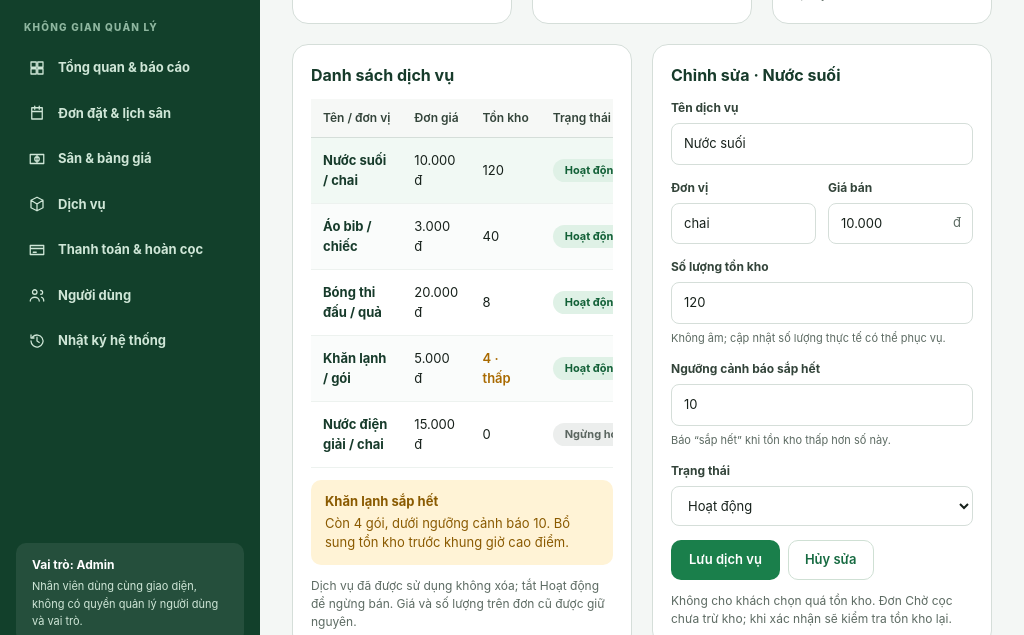
Test case: Admin Dịch vụ - sửa và thêm › không đổi gì mà bấm Lưu → báo lỗi, KHÔNG gọi server
(page scrolled)
Click the button "Lưu dịch vụ" at (725, 560), box [671,540,780,580]
(page scrolled)
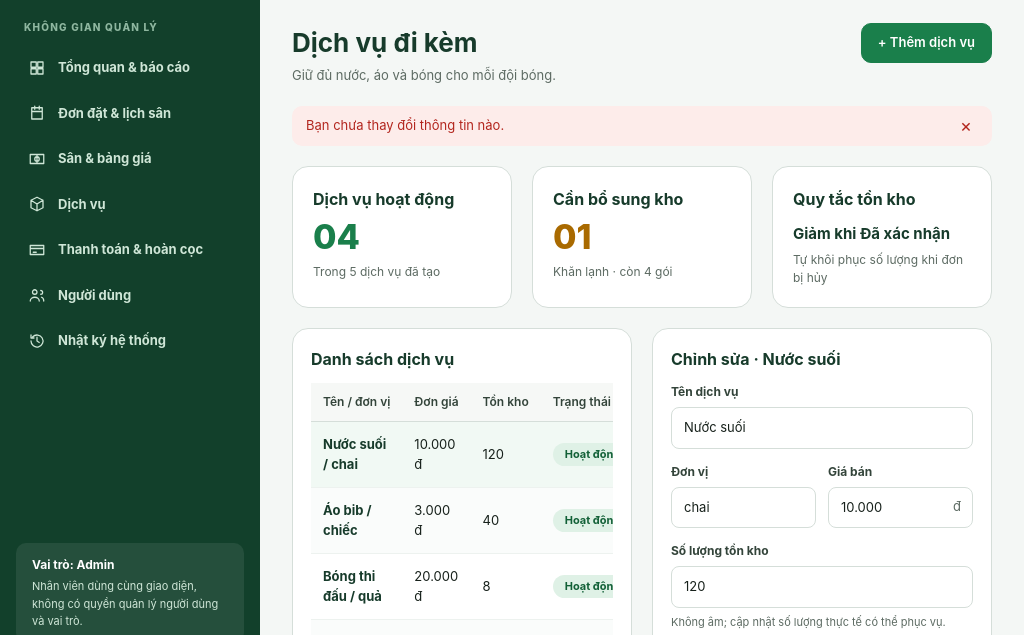
Expected: the text "Bạn chưa thay đổi thông tin nào." is shown, [306,116,504,136]
